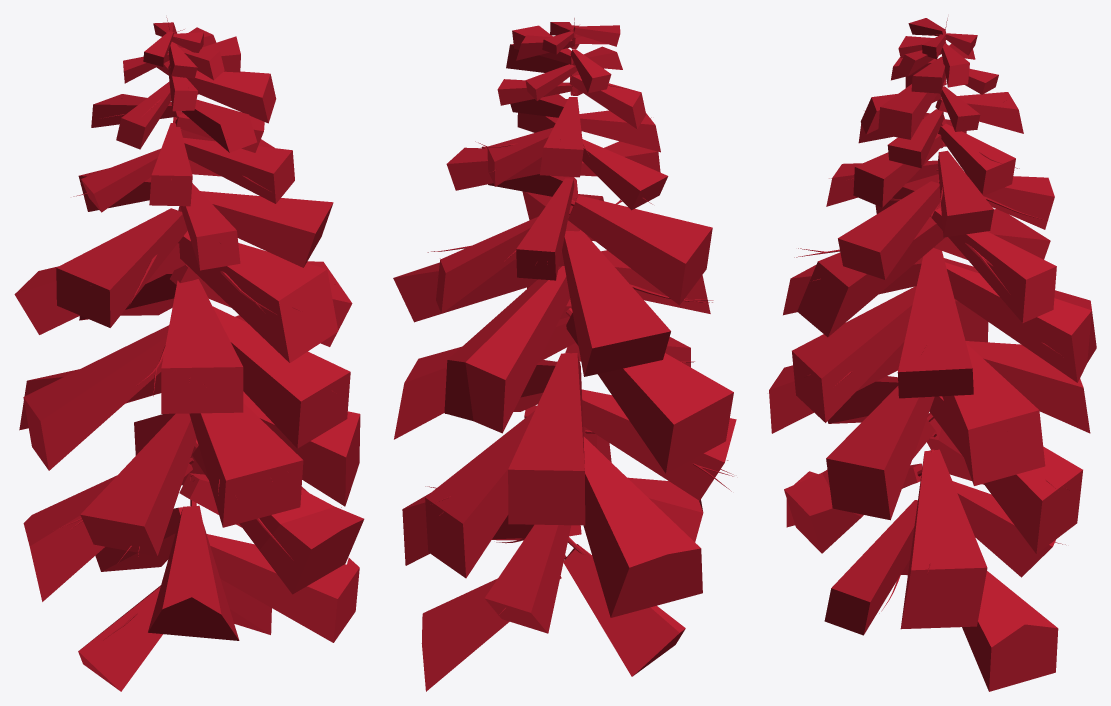
The model's file is tree-dead-leaves-15-044.glb.
3 views of the same model, side by side, from view 1: azimuth 30°, elevation 25°; view 2: azimuth 150°, elevation 25°; view 3: azimuth 270°, elevation 25° (orthographic). The views are drawn at different scales.
Parts seen in each view (by area): view 1: TREE 15.016_505; view 2: TREE 15.016_505; view 3: TREE 15.016_505.
Part boxes in pixels (x1,y1,x2,y2): TREE 15.016_505: [14, 17, 364, 691]; TREE 15.016_505: [393, 18, 736, 691]; TREE 15.016_505: [769, 18, 1096, 691].
Size of the model in its own units: 0.8007 by 1.63 by 0.7878.
